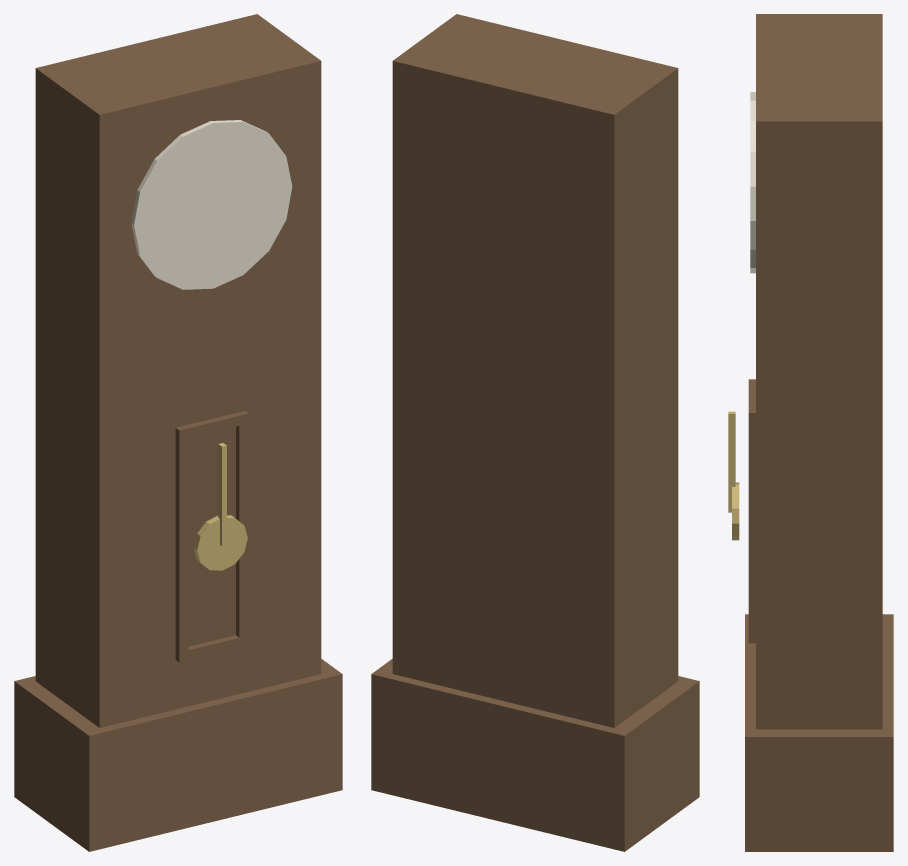
Rendered from ClockCabinet.fbx.
The picture shows the model from 3 angles, left to right: view 1: azimuth 30°, elevation 25°; view 2: azimuth 150°, elevation 25°; view 3: azimuth 270°, elevation 25°; orthographic projection.
Parts seen in each view (by area): view 1: ClockCabinet; view 2: ClockCabinet; view 3: ClockCabinet.
Part boxes in pixels (x1,y1,x2,y2): ClockCabinet: [14, 14, 342, 851]; ClockCabinet: [371, 14, 699, 851]; ClockCabinet: [728, 14, 893, 851].
Bounding box in the file's own units: 0.8 × 2.2 × 0.456.
